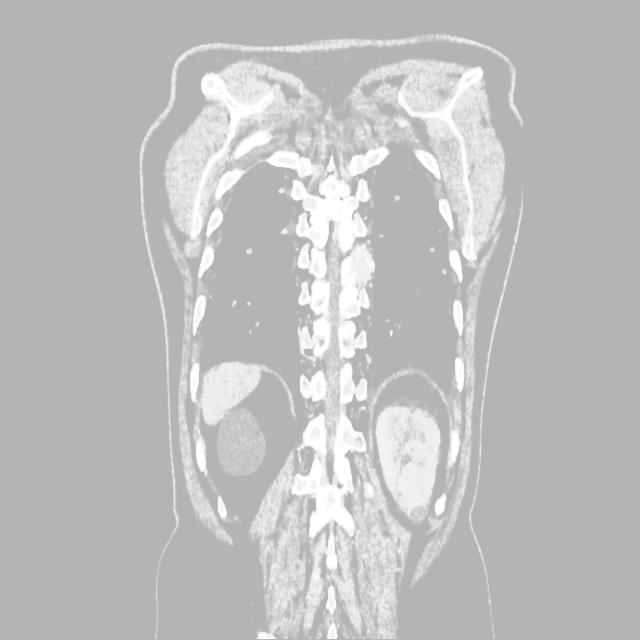TUMOR: (121, 295, 533, 591)
